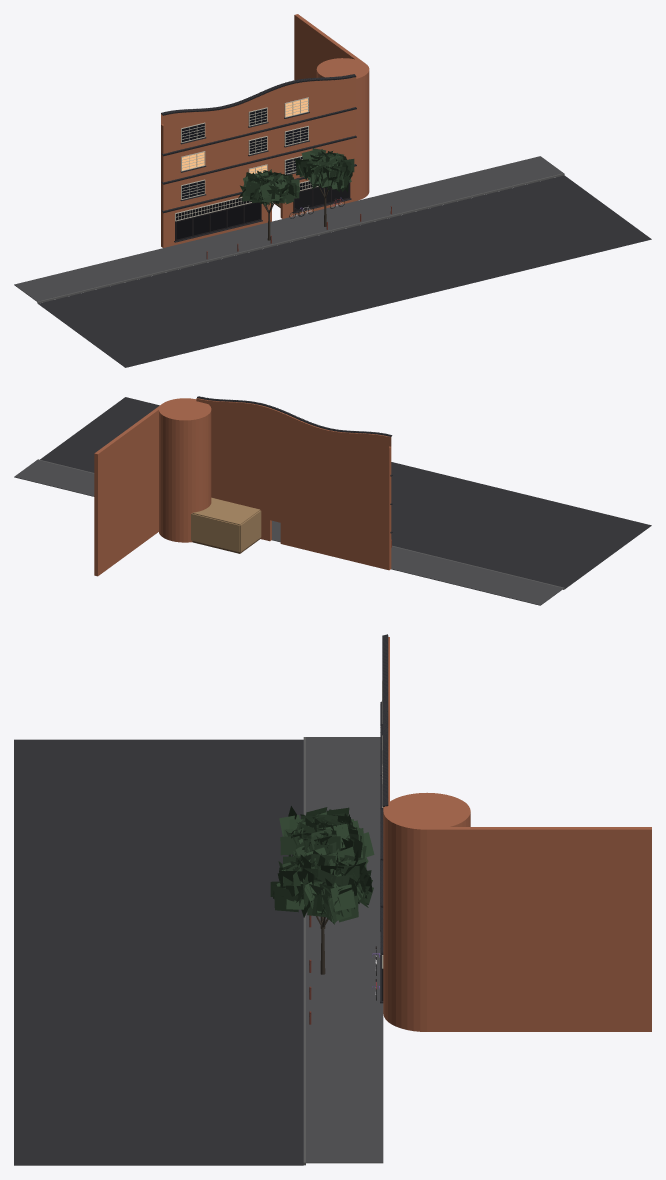
File: street.glb
The picture shows the model from 3 angles, top to bottom: view 1: azimuth 30°, elevation 25°; view 2: azimuth 150°, elevation 25°; view 3: azimuth 270°, elevation 25°; orthographic projection. The views are drawn at different scales.
Visible parts, largest first — view 1: road, brick, pavement, leaf, tile, trim, shop_glass, kerb, glass, dark, cafe_glass, window_lit; view 2: brick, road, pavement, cafe_wall, tile, kerb; view 3: road, brick, pavement, leaf, tile, kerb.
Boxes of the visible parts, x1,y1,x2,y2 form: road: (38, 175, 651, 367); brick: (161, 14, 369, 247); pavement: (14, 156, 563, 301); leaf: (238, 148, 354, 206); tile: (161, 74, 356, 242); trim: (175, 97, 318, 221); shop_glass: (176, 181, 312, 239); kerb: (37, 173, 564, 303); glass: (182, 108, 307, 198); dark: (175, 182, 350, 240); cafe_glass: (295, 185, 348, 210); window_lit: (182, 98, 307, 173); brick: (94, 398, 391, 576); road: (40, 397, 651, 589); pavement: (14, 460, 563, 605); cafe_wall: (191, 497, 261, 552); tile: (197, 396, 392, 533); kerb: (37, 459, 564, 589); road: (14, 739, 303, 1165); brick: (383, 637, 651, 1031); pavement: (306, 737, 383, 1163); leaf: (270, 806, 374, 924); tile: (380, 634, 388, 1003); kerb: (303, 737, 305, 1165).
Size of the model in its own units: 60 by 14.86 by 38.
